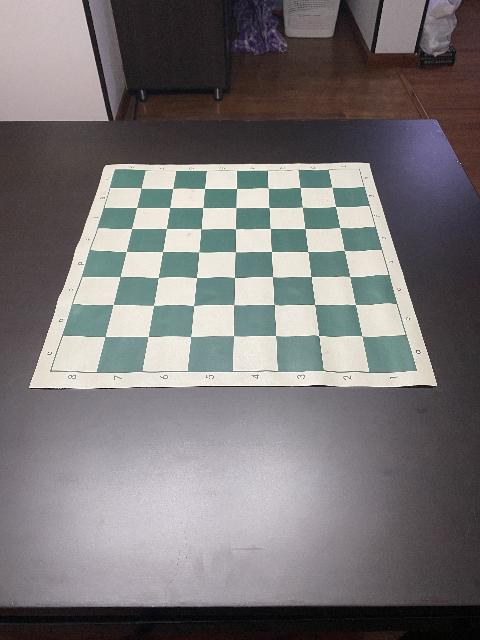board: (29, 162, 437, 390)
